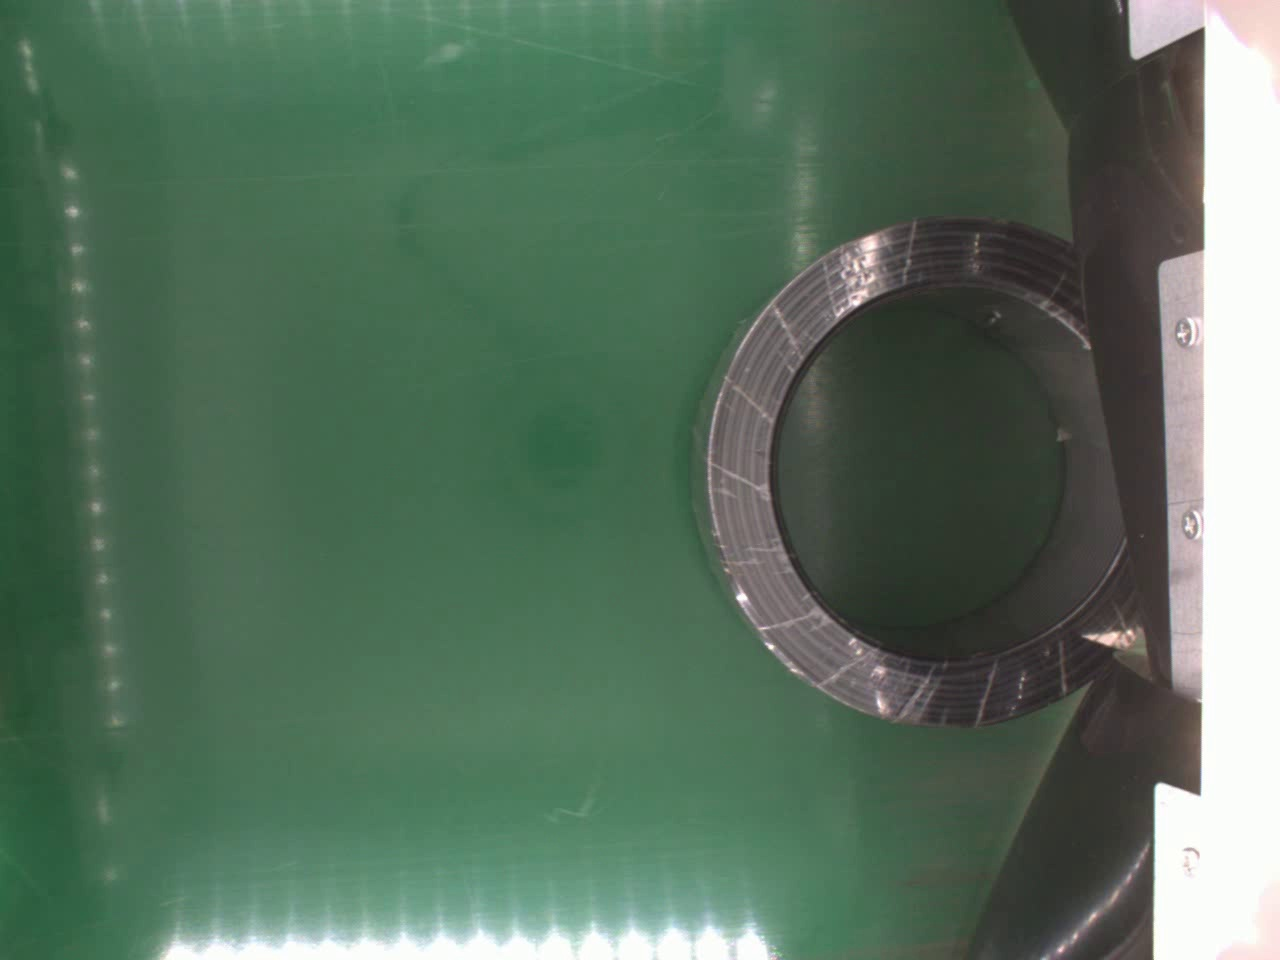black: (674, 210, 1139, 729)
